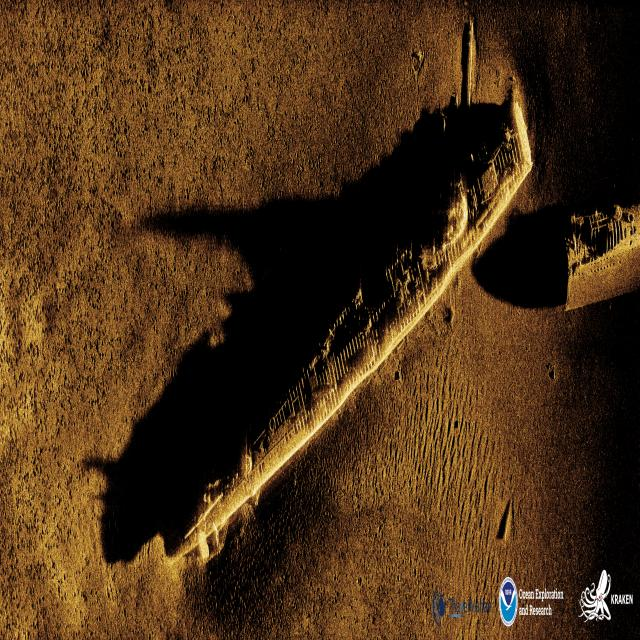ship: (172, 64, 532, 573)
